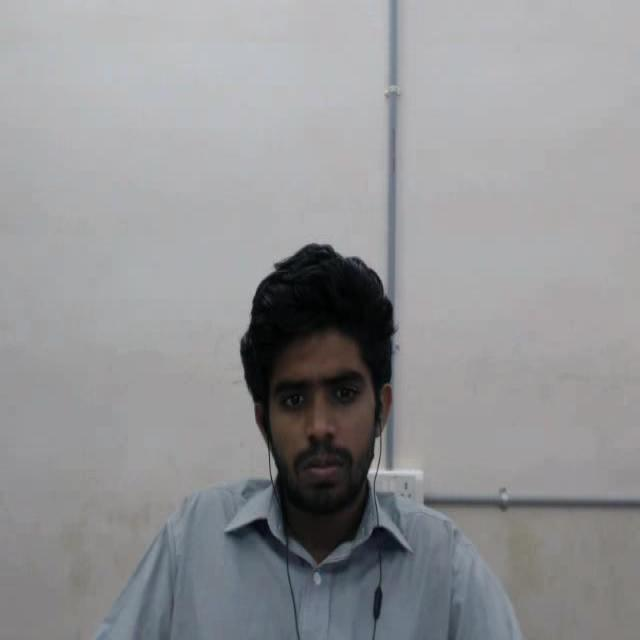Engaged: (203, 201, 427, 533)
